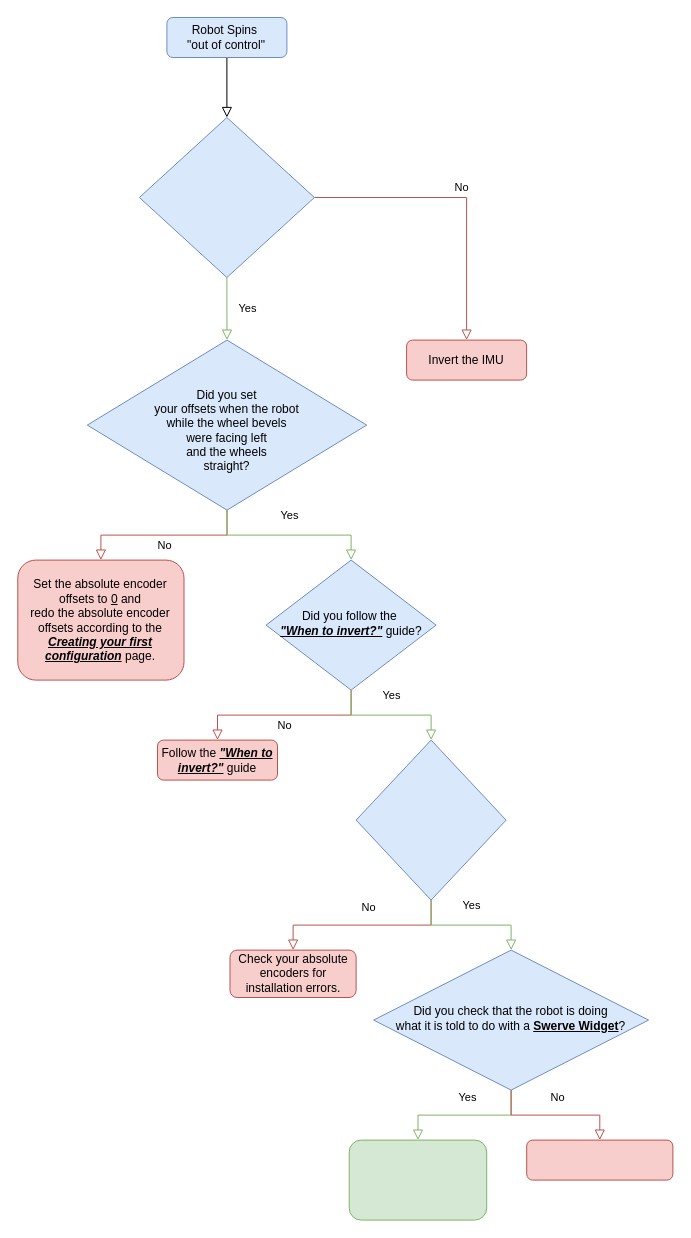
Image size: 691x1238. Some labels were removed from this diagram. The shapes that lost their labels are listed below. From the top down, each one's box as (x1, y1, x2, y2) in pixels, then its label:
(138, 116, 314, 278): Do your IMU readings increase when the robot is rotated counter clockwise?
(355, 739, 506, 900): Did you check for installation errors or warnings with your absolute encoders?
(348, 1139, 487, 1220): You have misconfigured your module locations. Swap ID's and try again.
(526, 1139, 673, 1180): Your controller input may be wrong
